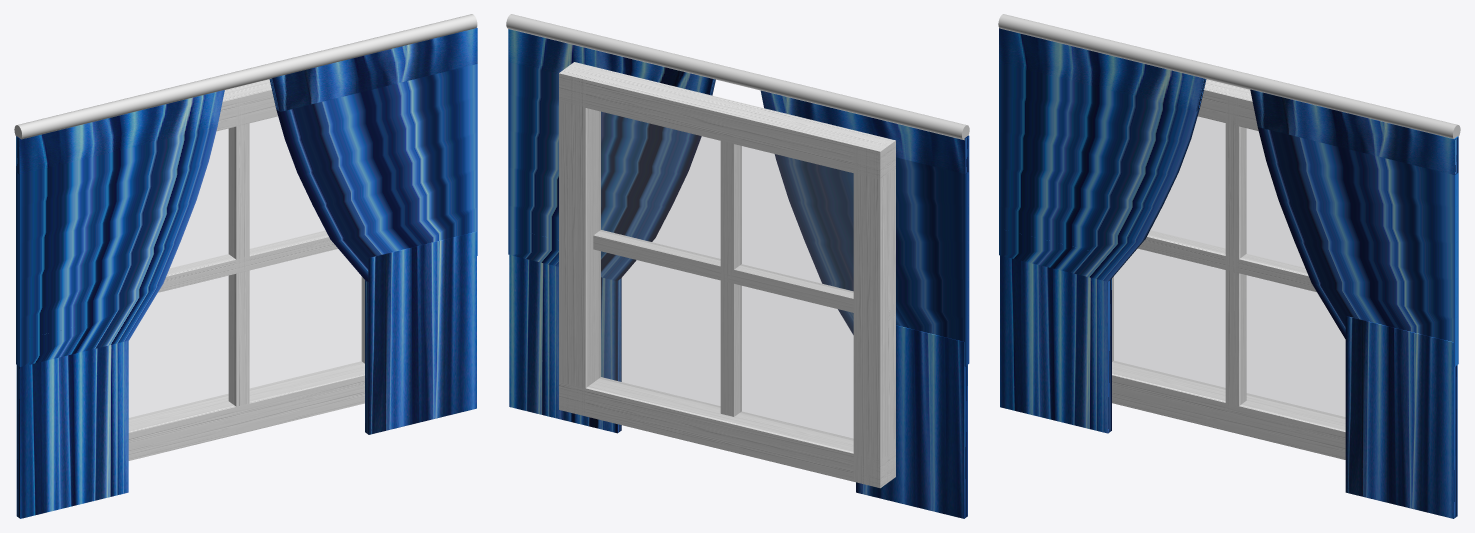
The model's file is Window.fbx.
3 views of the same model, side by side, from view 1: azimuth 30°, elevation 25°; view 2: azimuth 150°, elevation 25°; view 3: azimuth 330°, elevation 25° (orthographic).
Visible parts, largest first — view 1: pCube15, pCube14, pCube1, pCube3, pCylinder1, pCube6, pCube7, pCube2; view 2: pCube1, pCube15, pCube14, pCube2, pCube5, pCube3, pCube4, pCylinder1, pCube6, pCube7; view 3: pCube14, pCube15, pCube1, pCube3, pCylinder1, pCube6, pCube7, pCube2.
Boxes of the visible parts, <box> form: pCube15: <box>16,90,224,518</box>; pCube14: <box>269,28,477,434</box>; pCube1: <box>129,117,364,430</box>; pCube3: <box>128,361,364,460</box>; pCylinder1: <box>14,14,477,139</box>; pCube6: <box>228,94,249,433</box>; pCube7: <box>158,230,337,292</box>; pCube2: <box>216,79,277,131</box>; pCube1: <box>588,109,853,450</box>; pCube15: <box>760,90,969,518</box>; pCube14: <box>508,29,715,433</box>; pCube2: <box>559,62,895,179</box>; pCube5: <box>853,135,895,488</box>; pCube3: <box>559,377,895,487</box>; pCube4: <box>559,62,600,415</box>; pCylinder1: <box>506,14,969,140</box>; pCube6: <box>720,103,741,416</box>; pCube7: <box>593,230,895,320</box>; pCube14: <box>1250,89,1458,518</box>; pCube15: <box>999,28,1206,433</box>; pCube1: <box>1112,117,1345,429</box>; pCube3: <box>1112,360,1345,459</box>; pCylinder1: <box>998,14,1460,138</box>; pCube6: <box>1225,89,1246,417</box>; pCube7: <box>1137,230,1316,292</box>; pCube2: <box>1198,79,1258,130</box>.
Bounding box in the file's own units: 3.41 × 2.8 × 0.2869.
Materials: 4 (2 with a texture image).
